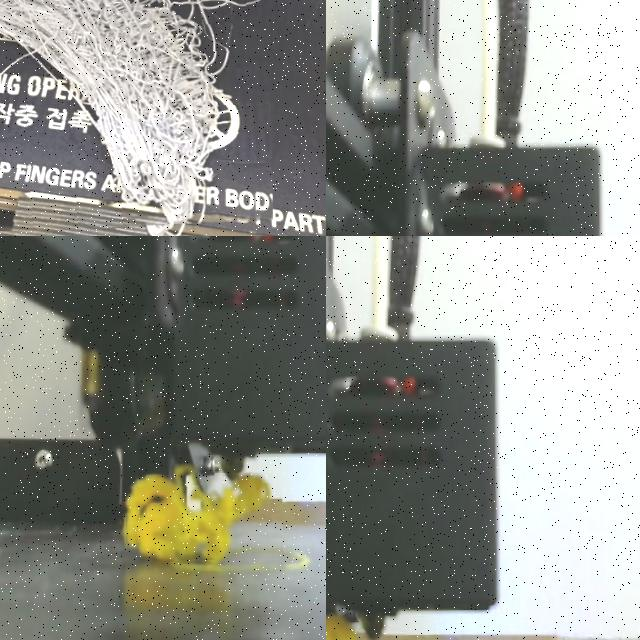spaghetti: (0, 0, 273, 236), (122, 471, 283, 563)
